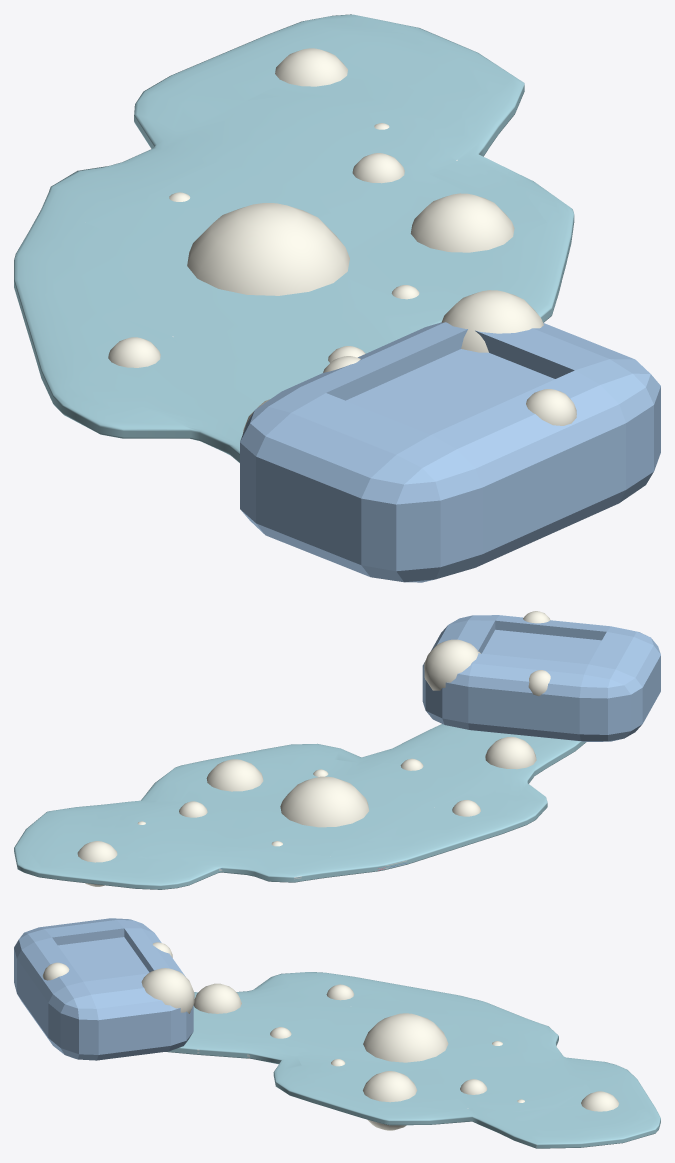
The model's file is Soap2.fbx.
The picture shows the model from 3 angles, top to bottom: view 1: azimuth 30°, elevation 25°; view 2: azimuth 150°, elevation 25°; view 3: azimuth 270°, elevation 25°; orthographic projection. The views are drawn at different scales.
Visible parts, largest first — view 1: savon2; view 2: savon2; view 3: savon2.
Part boxes in pixels (box(x1,y1,x2,y2)): savon2: box(14, 14, 660, 582); savon2: box(14, 611, 660, 889); savon2: box(14, 918, 660, 1148).
Size of the model in its own units: 27.94 by 44.21 by 9.8.
